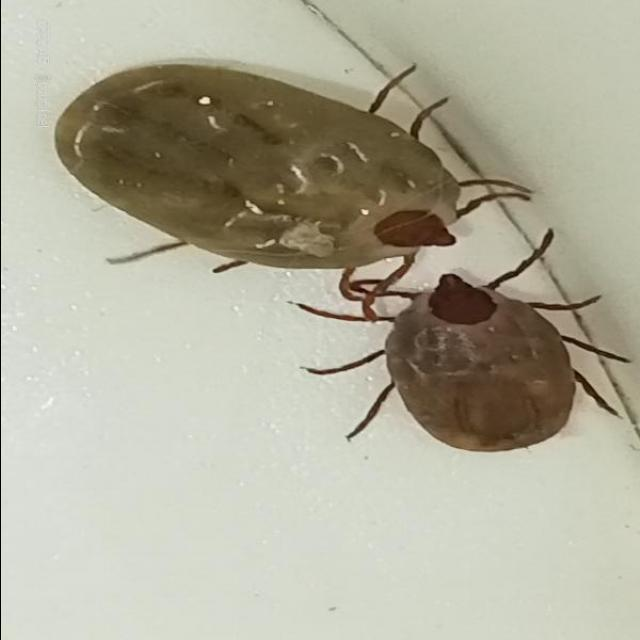Rhipicephalus Sanguineus-F-Fed: (51, 62, 533, 323), (290, 226, 629, 453)
